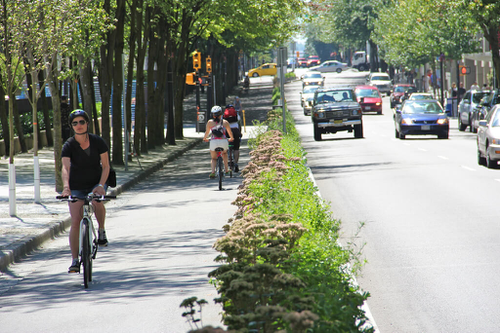bikerider: (52, 102, 128, 287), (202, 101, 229, 192), (220, 96, 250, 170)
